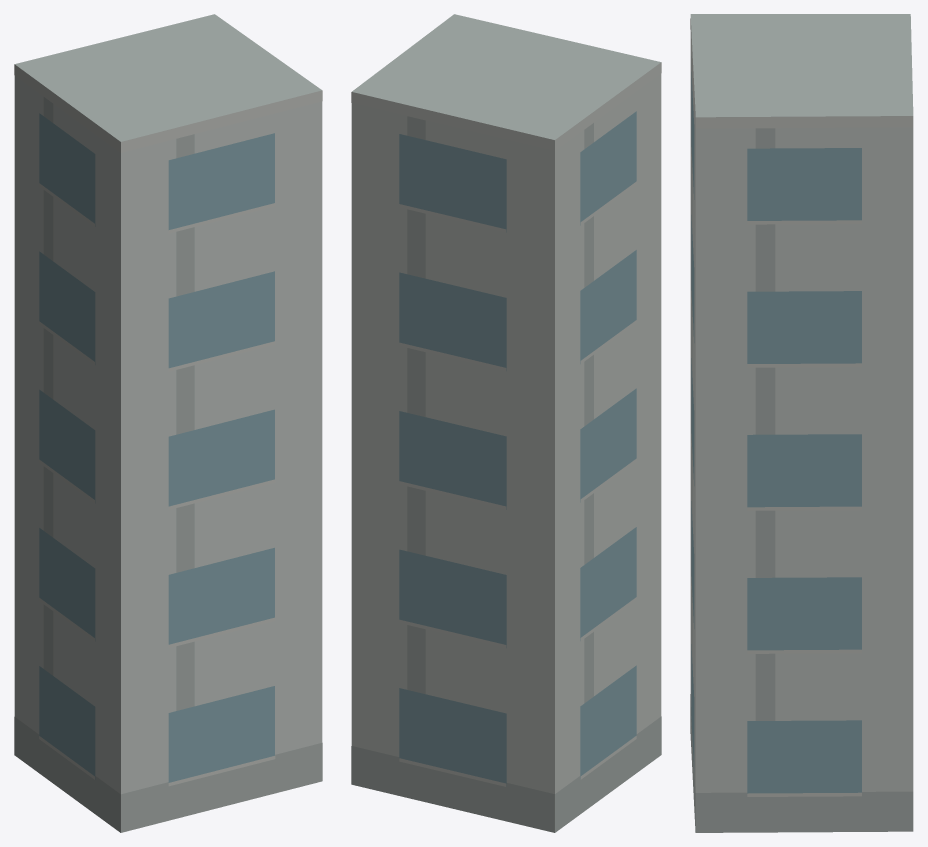
Rendered from survey-upis-32900580.glb.
The picture shows the model from 3 angles, left to right: view 1: azimuth 30°, elevation 25°; view 2: azimuth 150°, elevation 25°; view 3: azimuth 270°, elevation 25°; orthographic projection. The views are drawn at different scales.
Parts seen in each view (by area): view 1: survey-upis-32900580.tmp; view 2: survey-upis-32900580.tmp; view 3: survey-upis-32900580.tmp.
Boxes of the visible parts, x1,y1,x2,y2 form: survey-upis-32900580.tmp: (14, 14, 322, 832); survey-upis-32900580.tmp: (351, 14, 661, 832); survey-upis-32900580.tmp: (690, 14, 913, 832).
Size of the model in its own units: 4.73 by 15.25 by 4.32.
